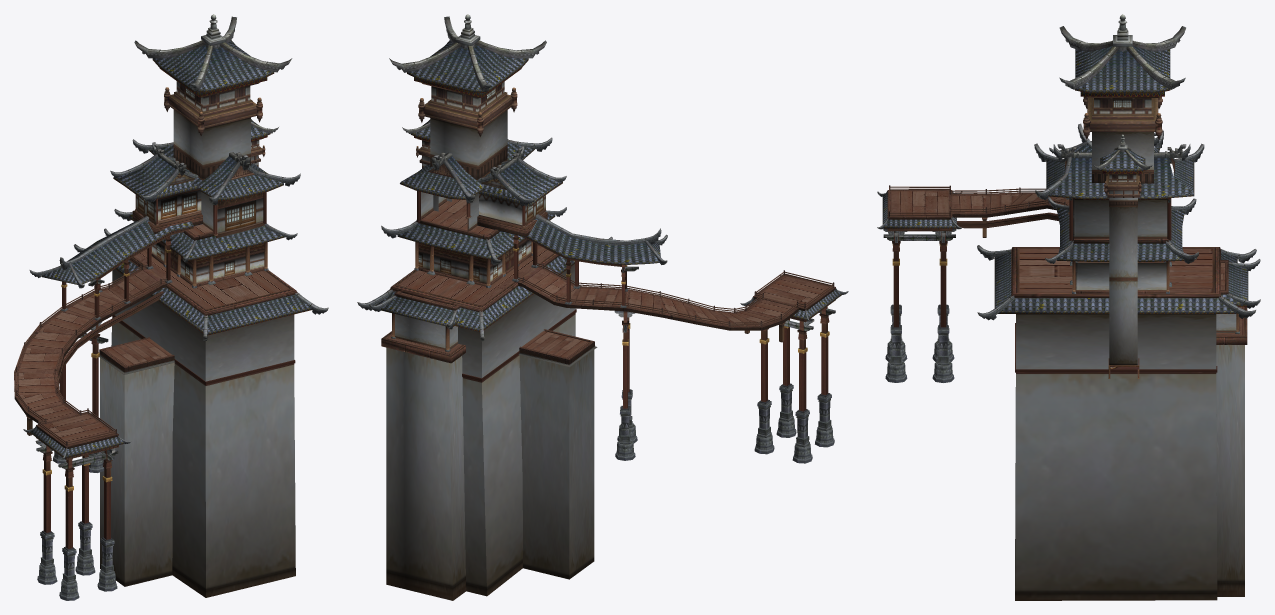
The model's file is S2_Build_XSC057.FBX.
3 renders of one model, left to right at view 1: azimuth 30°, elevation 25°; view 2: azimuth 150°, elevation 25°; view 3: azimuth 270°, elevation 25°, orthographic. The views are drawn at different scales.
Parts seen in each view (by area): view 1: S2_Build_XSC057; view 2: S2_Build_XSC057; view 3: S2_Build_XSC057.
Part boxes in pixels (left/top/right/bottom): S2_Build_XSC057: left=14, top=14, right=328, bottom=600; S2_Build_XSC057: left=357, top=14, right=848, bottom=600; S2_Build_XSC057: left=877, top=14, right=1260, bottom=600.
Bounding box in the file's own units: 10612 × 16625 × 10138.
